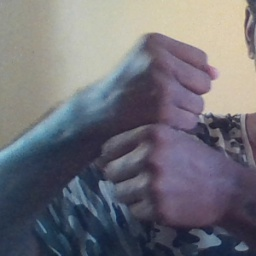G: (95, 29, 222, 229)
